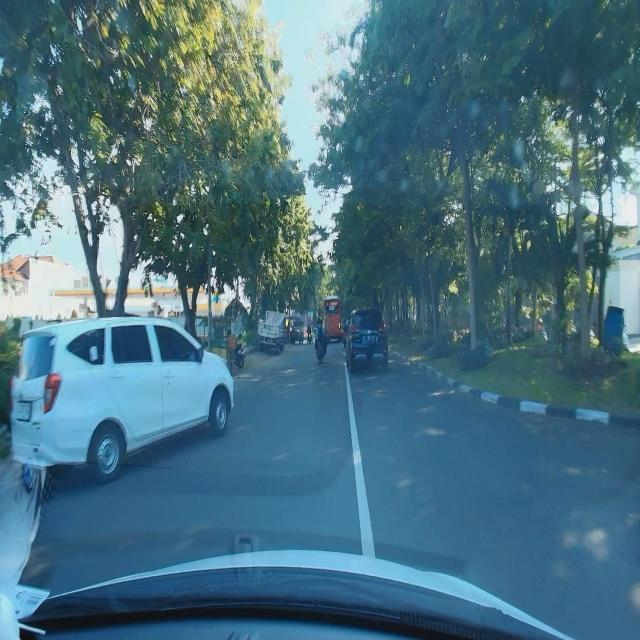bus: (322, 292, 343, 344)
car: (345, 307, 389, 375)
truck: (257, 307, 287, 355)
